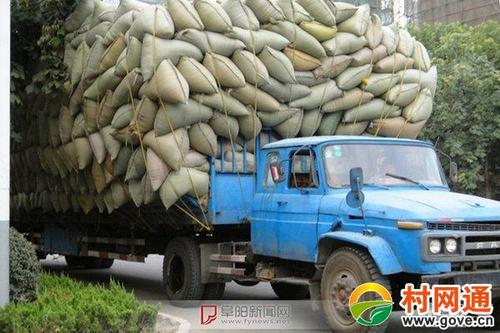chaozhai: (21, 1, 500, 331)
